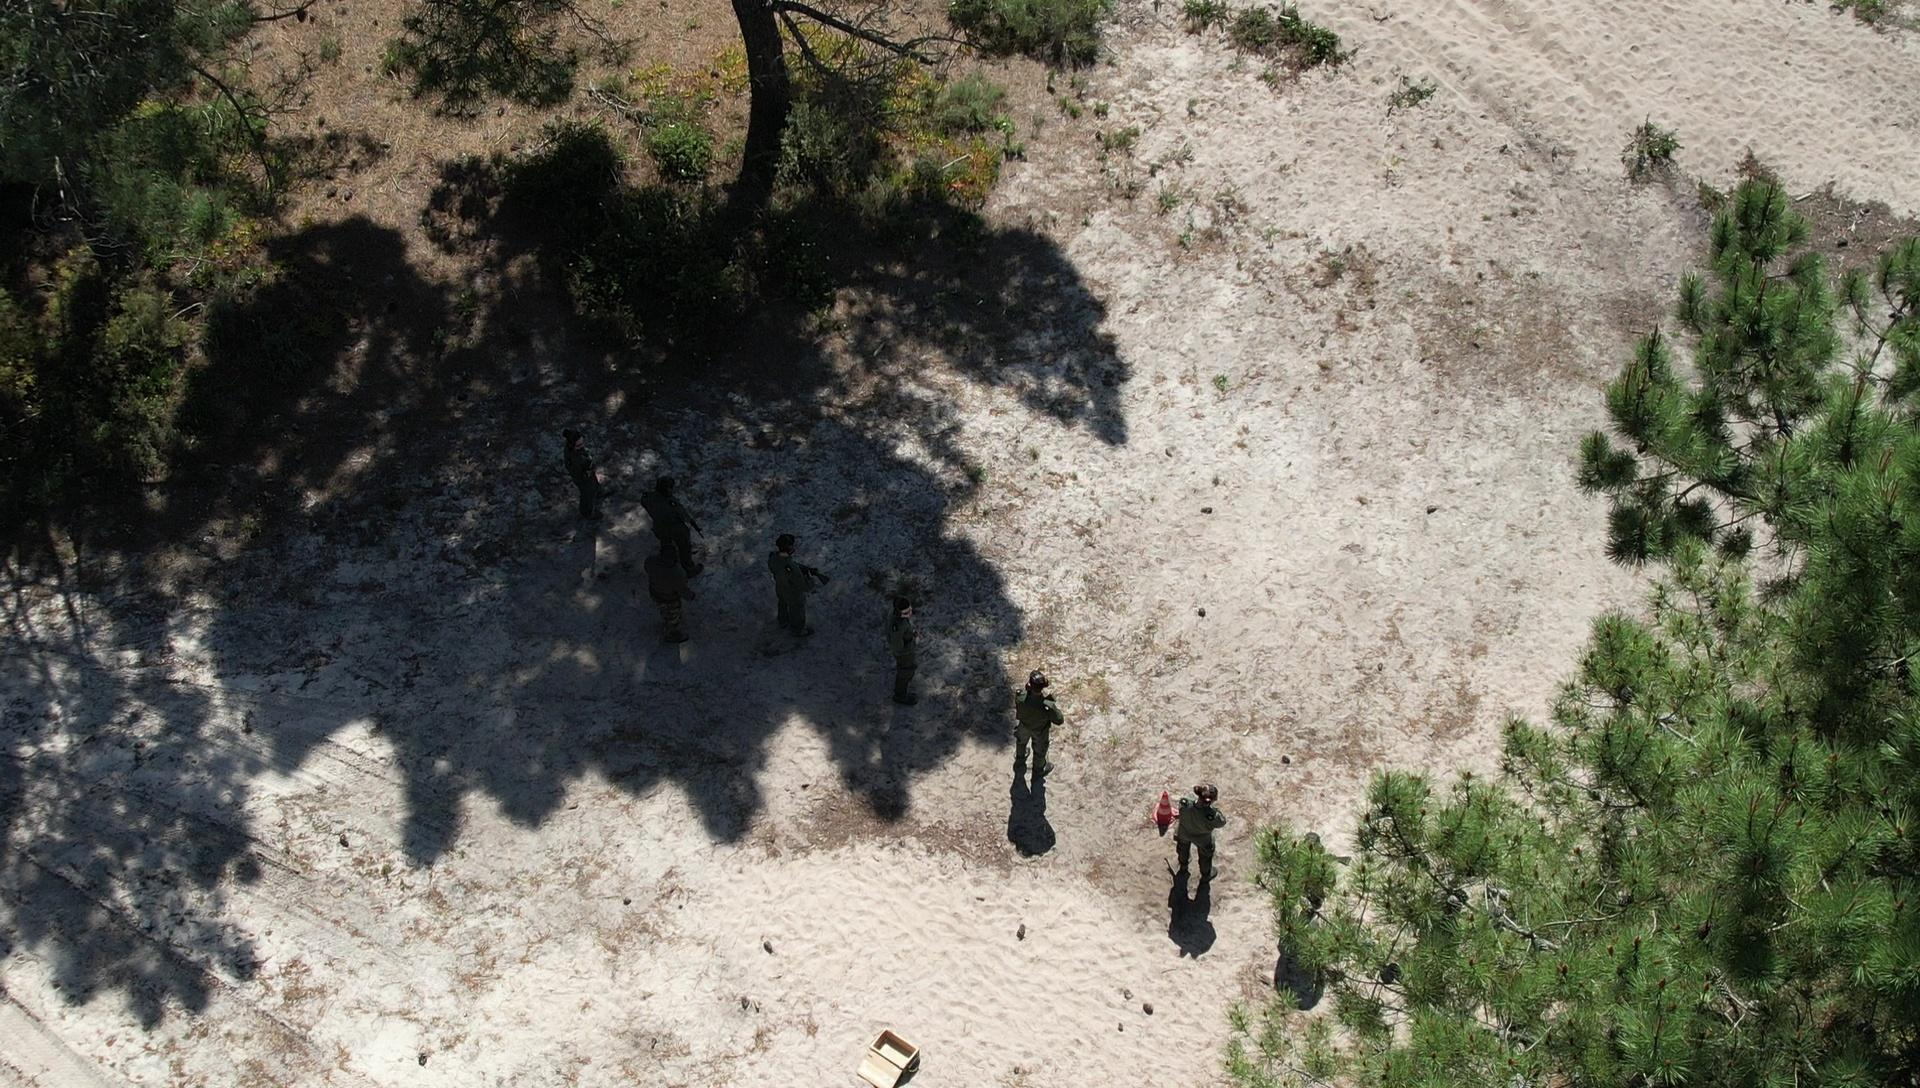Soldier: (1168, 779, 1230, 922), (1004, 663, 1068, 797), (873, 578, 934, 710), (765, 551, 822, 655), (644, 528, 699, 633), (560, 419, 605, 547), (644, 480, 702, 563)
